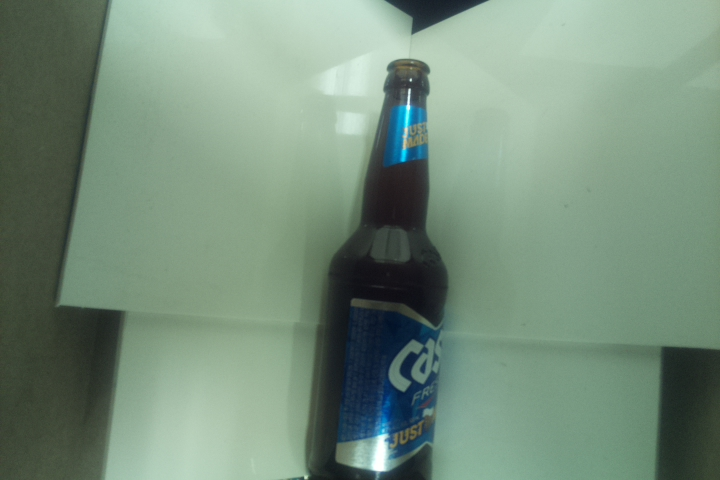makju: (305, 55, 452, 480)
